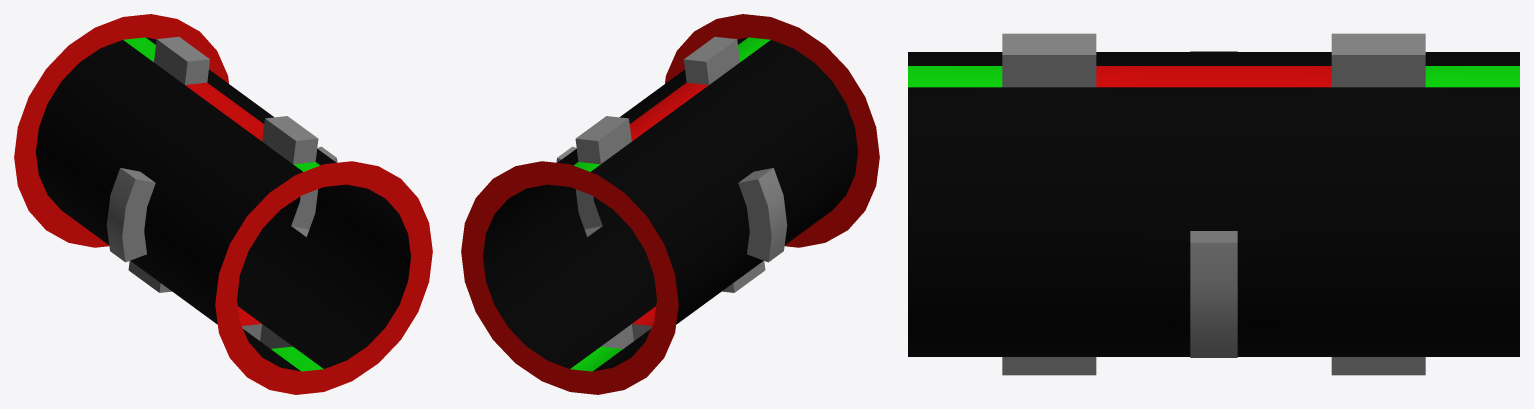
File: Level_2.fbx
3 renders of one model, left to right at view 1: azimuth 30°, elevation 25°; view 2: azimuth 150°, elevation 25°; view 3: azimuth 270°, elevation 25°, orthographic. The views are drawn at different scales.
Visible parts, largest first — view 1: Ground, Walls; view 2: Ground, Walls; view 3: Ground, Walls.
Boxes of the visible parts, x1,y1,x2,y2 form: Ground: (36,37,410,371); Walls: (14,14,432,394); Ground: (483,37,857,371); Walls: (461,14,879,394); Ground: (908,52,1519,356); Walls: (1002,33,1425,375).
Bounding box in the file's own units: 8.35 × 8.33 × 13.33.
